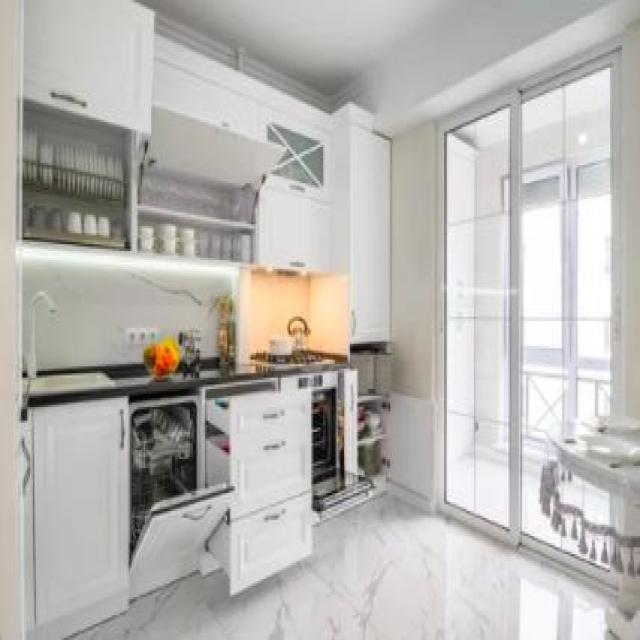dishwasher: (126, 391, 239, 606)
